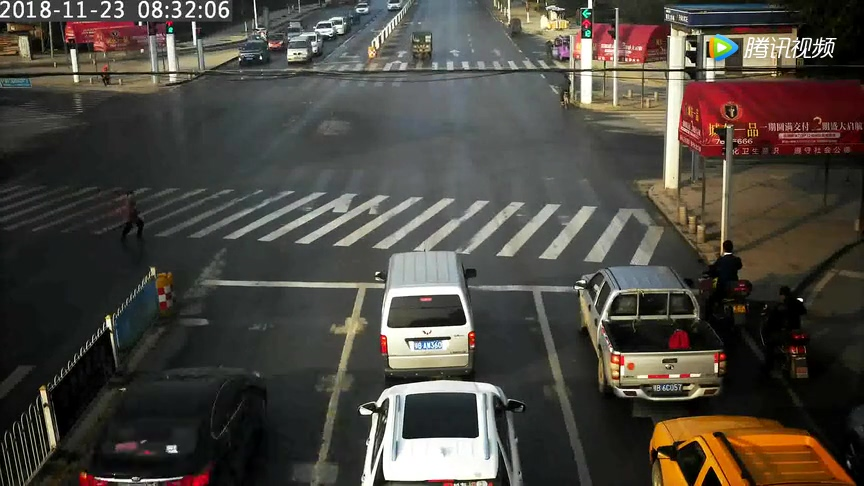car: (93, 347, 279, 486), (565, 261, 729, 418), (354, 369, 521, 486), (629, 406, 864, 483), (369, 246, 493, 379), (229, 33, 280, 74), (282, 31, 317, 73), (407, 31, 442, 61), (349, 1, 376, 17)
person: (767, 279, 810, 381), (712, 232, 750, 334), (110, 187, 157, 256), (556, 71, 580, 105), (537, 33, 555, 66), (97, 64, 113, 91)
